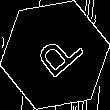P_SW: (25, 25, 85, 85)
